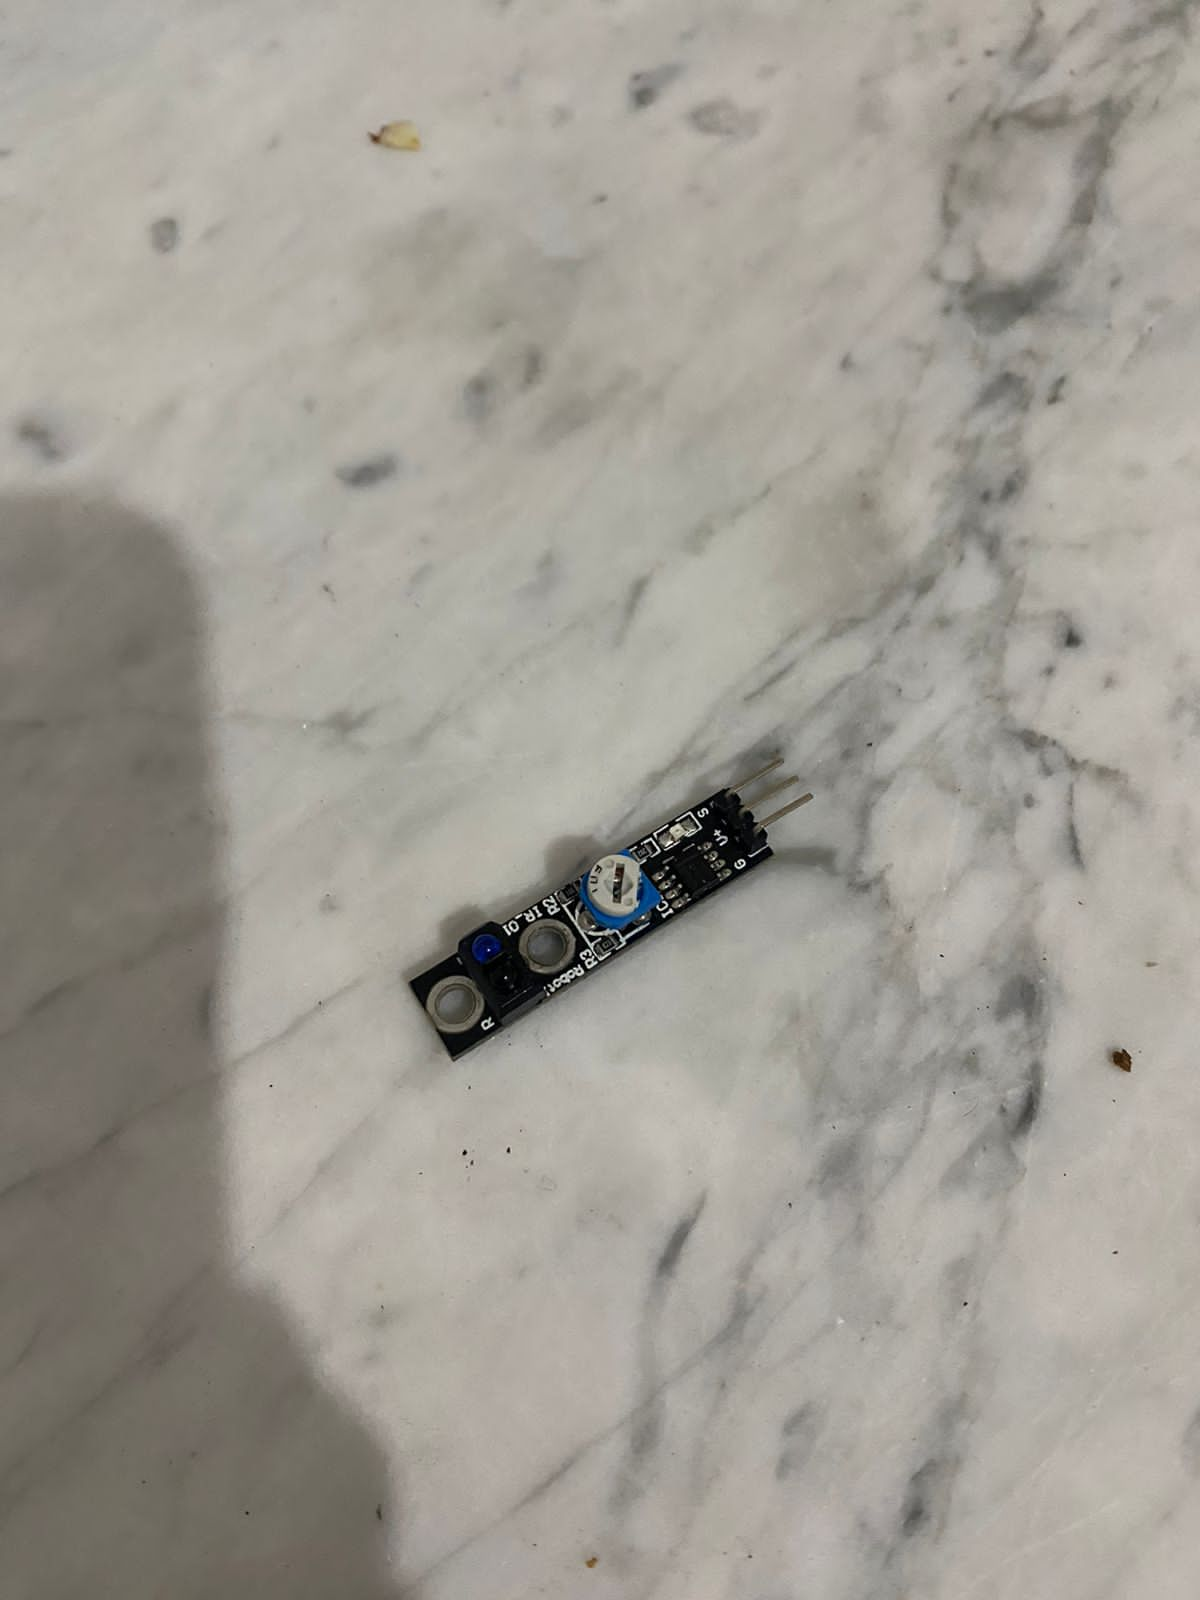ir-sensor: (398, 751, 824, 1076)
